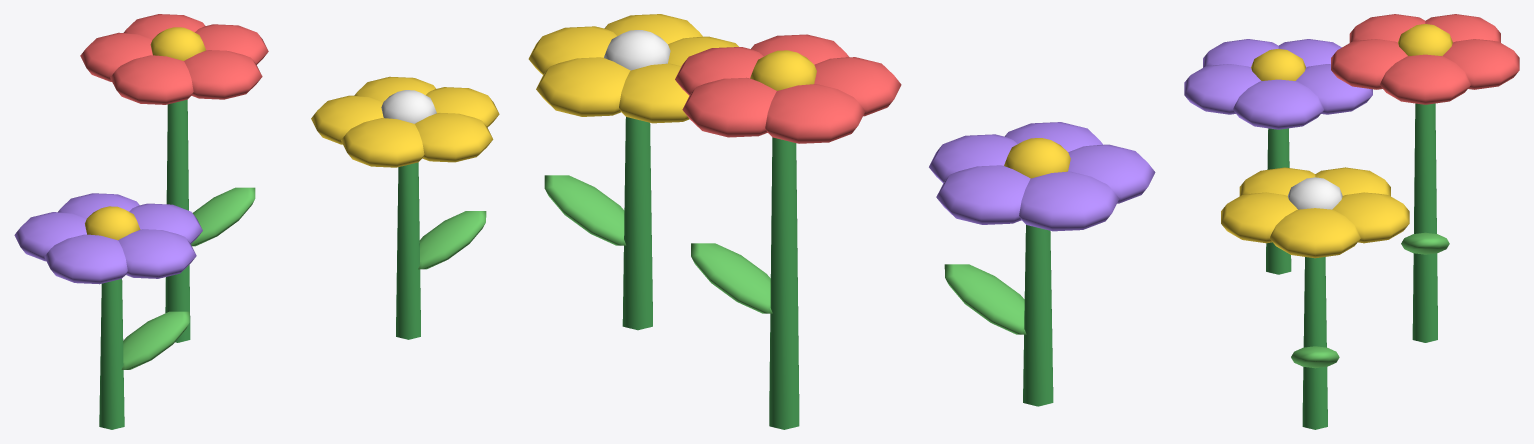
The model's file is Flowers.obj.
The picture shows the model from 3 angles, left to right: view 1: azimuth 30°, elevation 25°; view 2: azimuth 150°, elevation 25°; view 3: azimuth 270°, elevation 25°; orthographic projection. The views are drawn at different scales.
Parts seen in each view (by area): view 1: Flowers; view 2: Flowers; view 3: Flowers.
Part boxes in pixels (x1,y1,x2,y2): Flowers: [14, 14, 499, 429]; Flowers: [528, 14, 1155, 429]; Flowers: [1184, 14, 1519, 429].
Bounding box in the file's own units: 0.7566 × 0.465 × 0.4568.
Materials: 1 (1 with a texture image).
